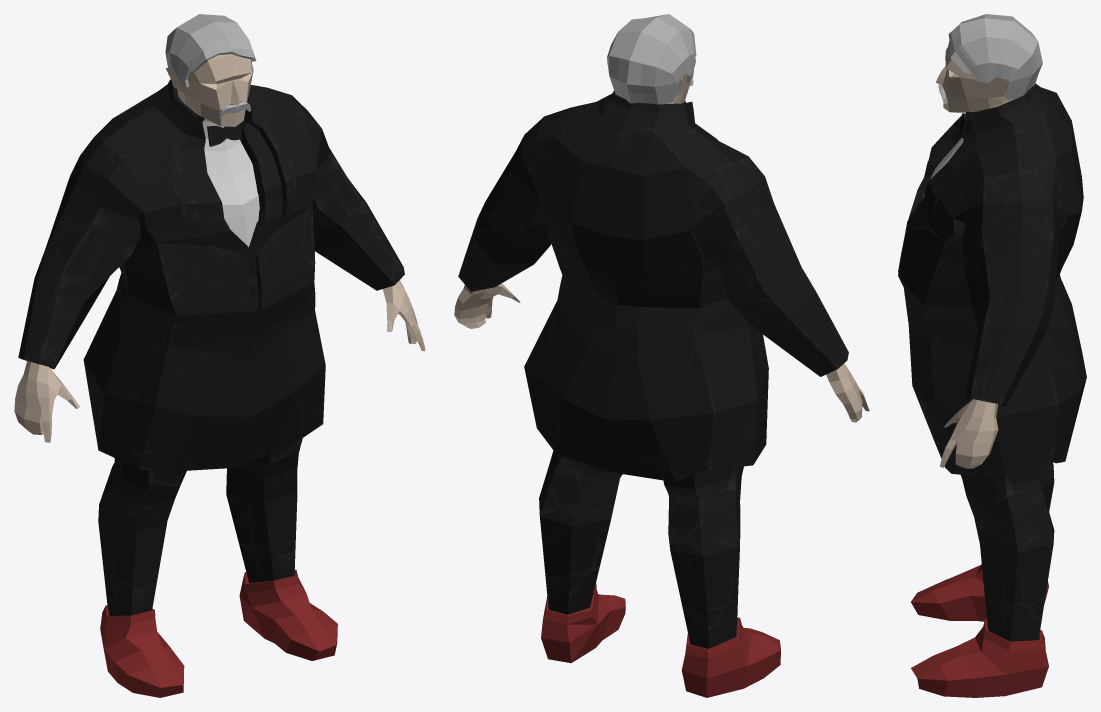
The model's file is Character (1).fbx.
3 views of the same model, side by side, from view 1: azimuth 30°, elevation 25°; view 2: azimuth 150°, elevation 25°; view 3: azimuth 270°, elevation 25° (orthographic).
Visible parts, largest first — view 1: Body; view 2: Body; view 3: Body.
Part boxes in pixels (box(x1,y1,x2,y2)): Body: box(14, 14, 425, 697); Body: box(454, 14, 869, 697); Body: box(898, 14, 1086, 697).
Size of the model in its own units: 196 by 299 by 81.04.
